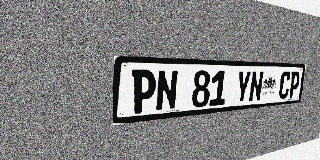1: (209, 70, 228, 106)
8: (191, 70, 211, 108)
C: (278, 71, 291, 99)
N: (155, 70, 178, 112), (248, 71, 264, 102)
P: (131, 70, 156, 114), (288, 71, 301, 98)
Y: (235, 71, 251, 104)
